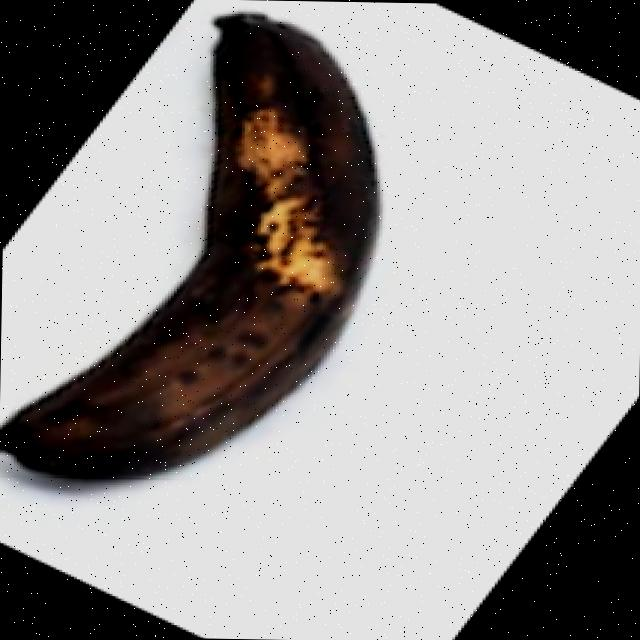Rotten: (0, 3, 385, 485)
